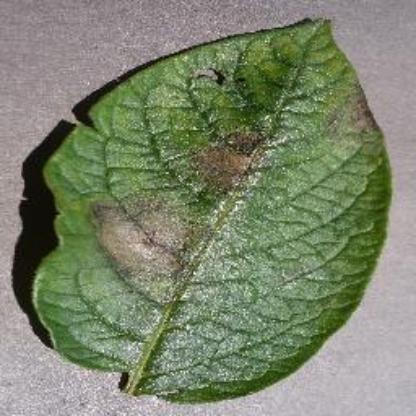Late-Blight: (24, 16, 392, 404)
